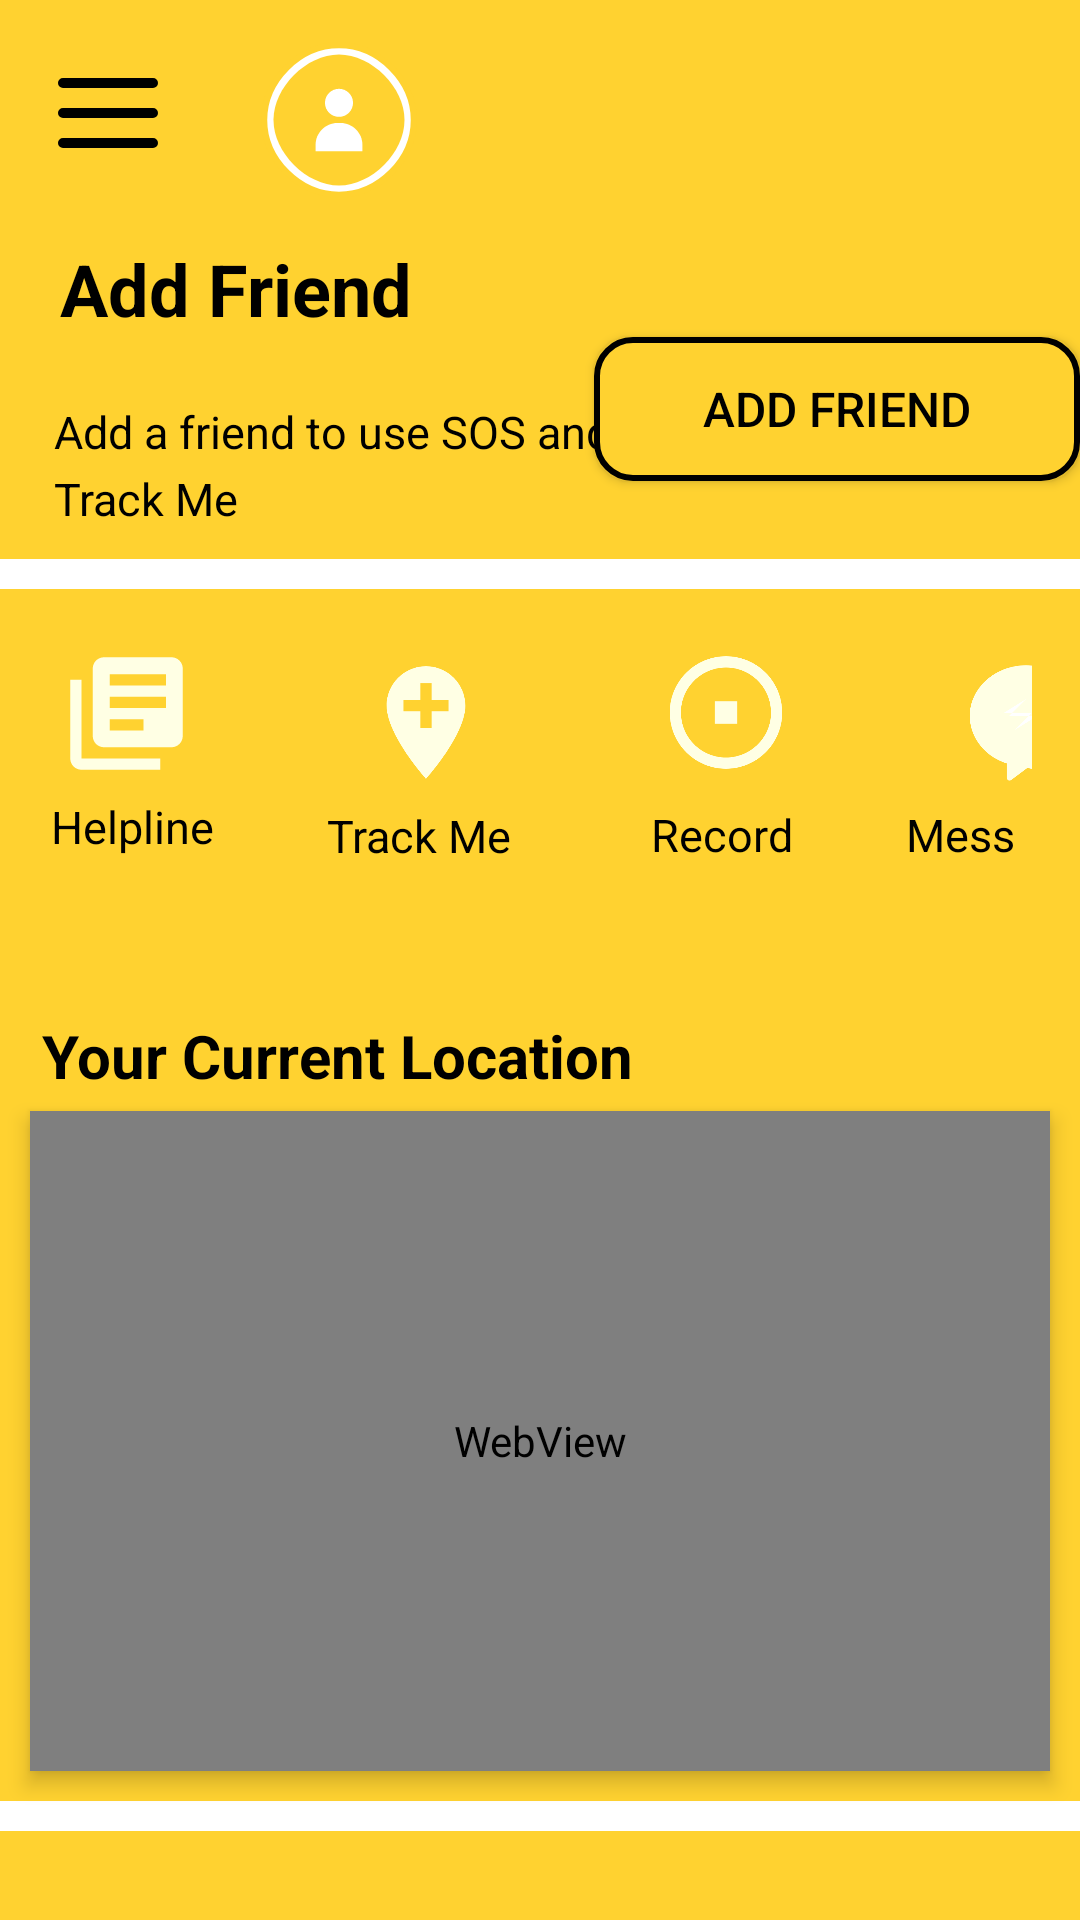

Icons on this 1080 x 1920 Android screen, each with the point to tap as (x,y):
add location: (426,722)
bar: (108,113)
library books: (126,713)
